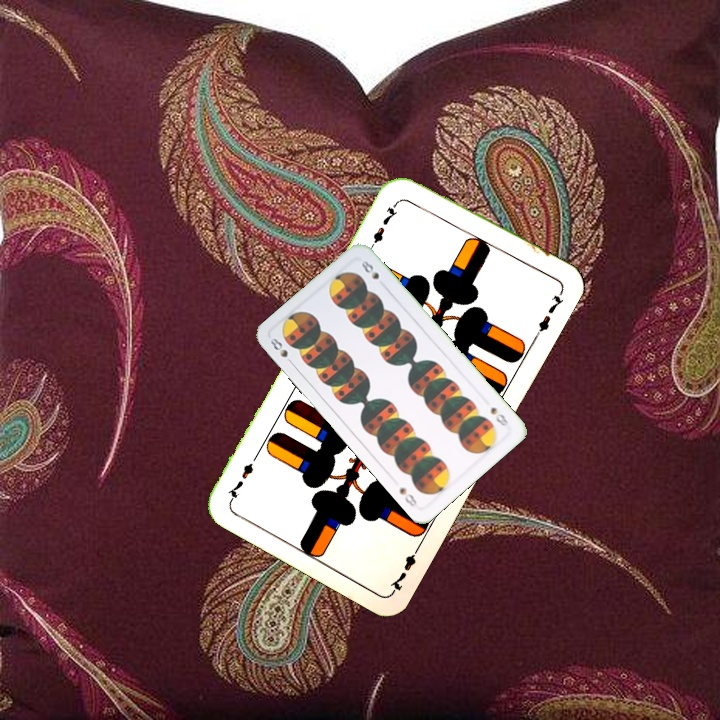E7: (385, 540, 424, 594), (367, 196, 404, 249)
S8: (266, 333, 297, 368), (486, 403, 511, 430)
